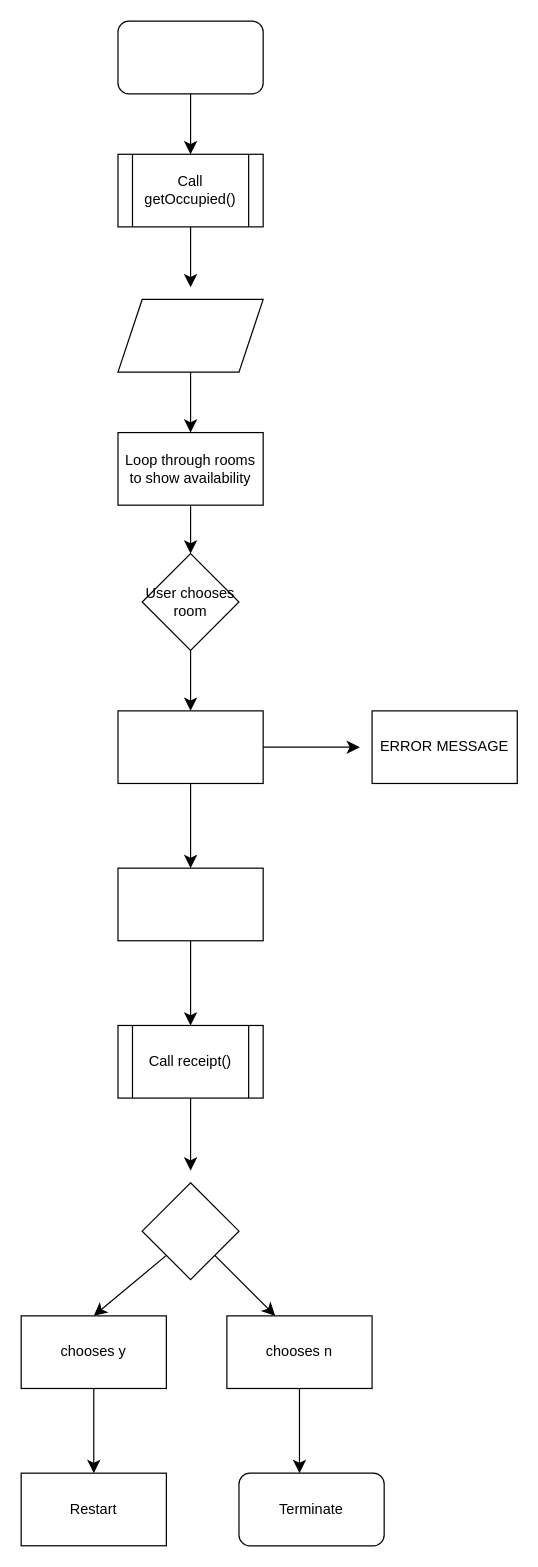
The diagram is 538 pixels wide and 1567 high, and some of its shapes have lost their labels. Here are the shapes that lost their labels. From the top down, the box of each, then its label:
(117, 20, 263, 94): START
(117, 298, 263, 372): Display room availability
(117, 710, 263, 783): Room available?
(117, 867, 263, 941): Calculate total/subtotal
(141, 1182, 239, 1280): Continue? (Y/N)
